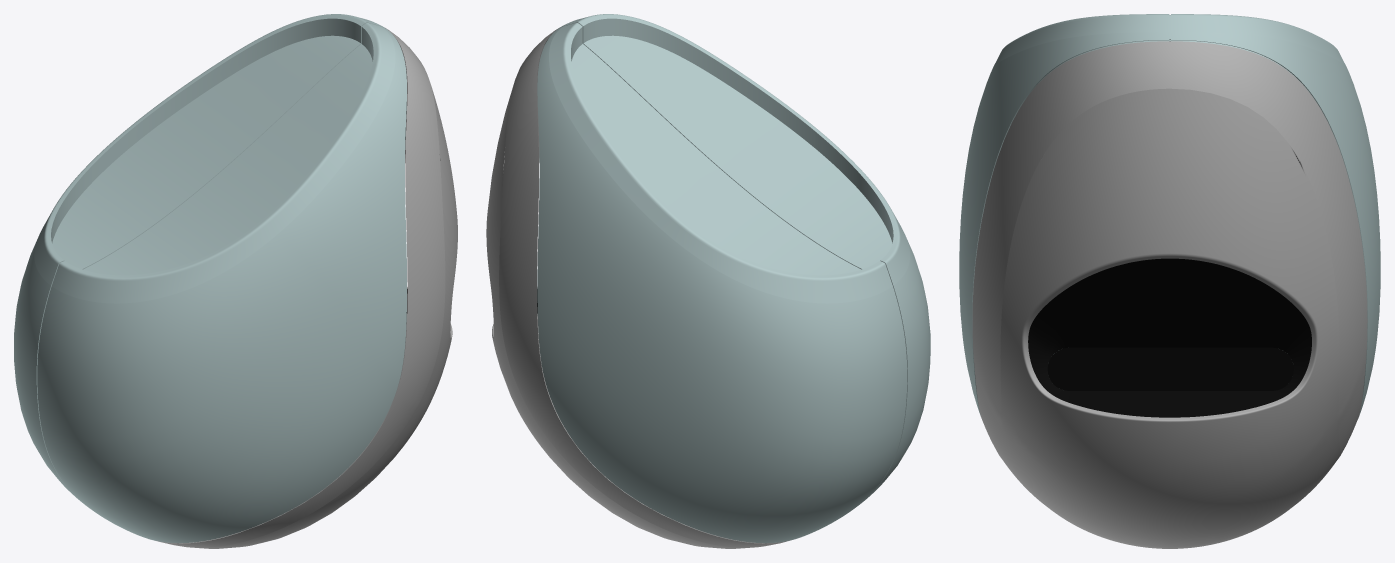
Rendered from head_link2.obj.
The picture shows the model from 3 angles, left to right: view 1: azimuth 30°, elevation 25°; view 2: azimuth 150°, elevation 25°; view 3: azimuth 270°, elevation 25°; orthographic projection. The views are drawn at different scales.
Parts seen in each view (by area): view 1: 1.001, 4, 2.001; view 2: 1.001, 4, 2.001; view 3: 2.001, 3.001, 1.001, 4.001, 4.
Boxes of the visible parts, <box> form: 1.001: <box>14,14,406,543</box>; 4: <box>28,16,406,542</box>; 2.001: <box>158,28,457,548</box>; 1.001: <box>537,14,930,543</box>; 4: <box>537,16,919,543</box>; 2.001: <box>486,28,789,548</box>; 2.001: <box>972,41,1367,548</box>; 3.001: <box>1028,258,1311,417</box>; 1.001: <box>959,14,1380,414</box>; 4.001: <box>1047,347,1293,390</box>; 4: <box>962,16,1375,418</box>.
Bounding box in the file's own units: 0.1858 × 0.2113 × 0.1362.
